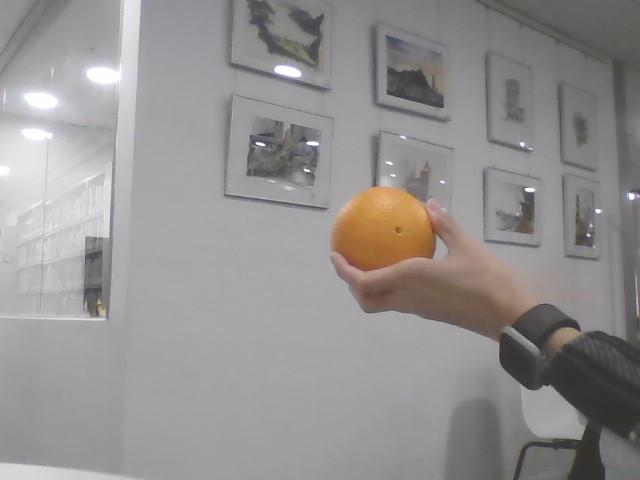orange: (329, 187, 437, 281)
